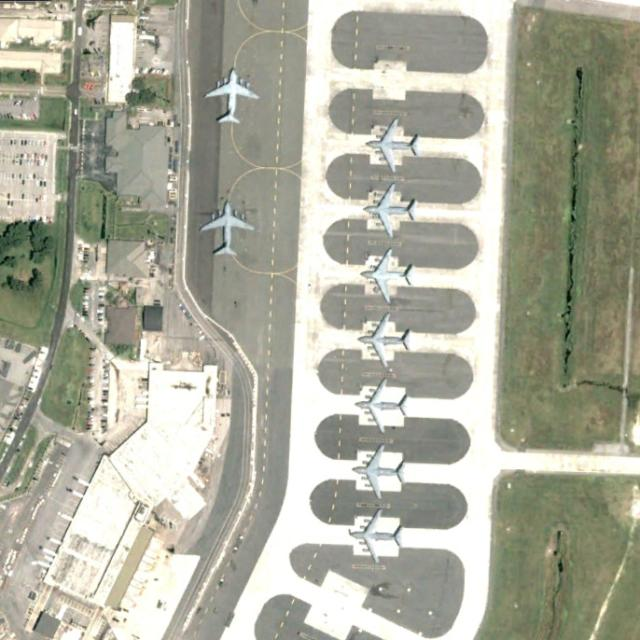fighter jet: (358, 378, 415, 432), (207, 65, 256, 126), (364, 247, 419, 300), (350, 509, 407, 559), (368, 185, 422, 237), (359, 313, 411, 363), (357, 448, 407, 498), (368, 121, 419, 164), (207, 207, 253, 254)
